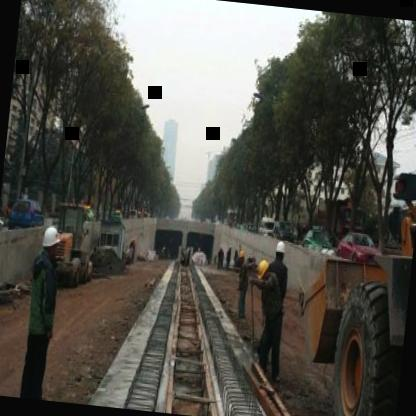helmet: (37, 222, 62, 264), (254, 254, 273, 283), (273, 234, 288, 268)
